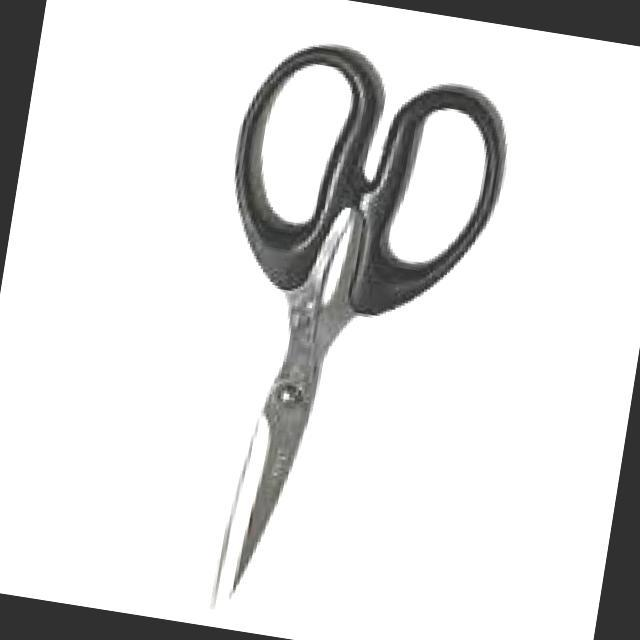Scissors: (133, 10, 538, 640)
